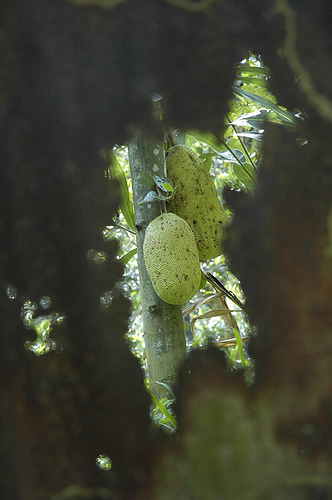jackfruit: (161, 141, 231, 262), (141, 214, 202, 306)
